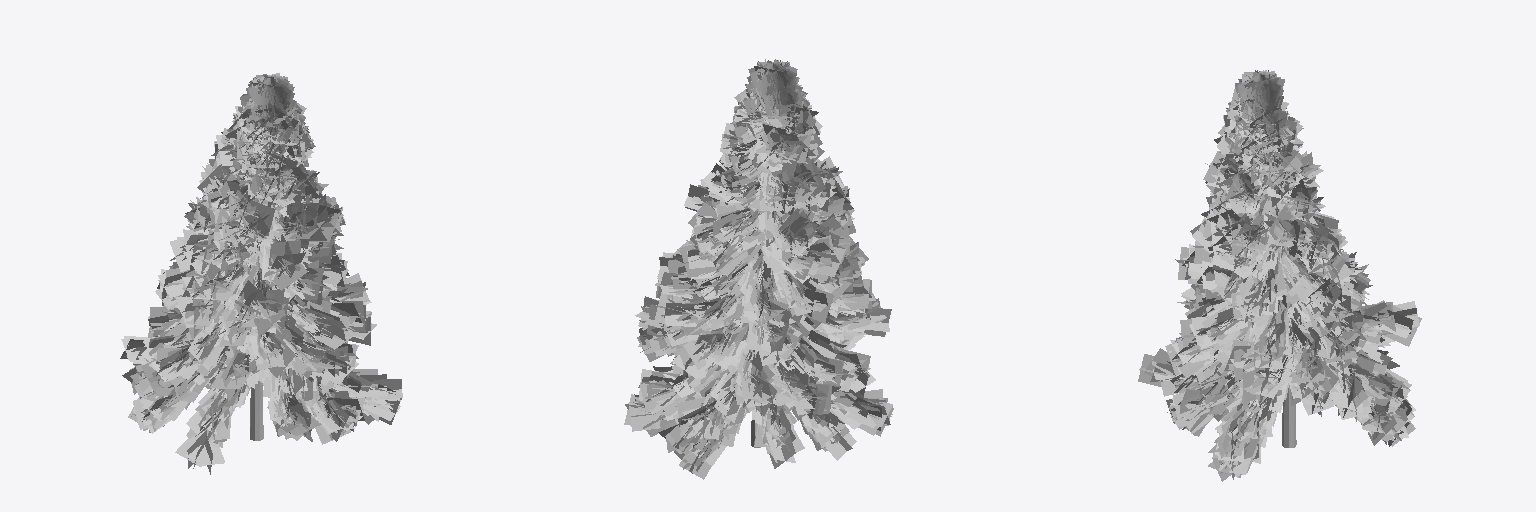
Rendered from tree_7.obj.
3 renders of one model, left to right at view 1: azimuth 30°, elevation 25°; view 2: azimuth 150°, elevation 25°; view 3: azimuth 270°, elevation 25°, orthographic.
Visible parts, largest first — view 1: Mesh_1.007, Mesh_0.007; view 2: Mesh_1.007; view 3: Mesh_1.007, Mesh_0.007.
Boxes of the visible parts, box(x1,y1,x2,y2) form: Mesh_1.007: box(120, 73, 402, 474); Mesh_0.007: box(223, 353, 263, 440); Mesh_1.007: box(624, 59, 893, 479); Mesh_1.007: box(1138, 70, 1421, 481); Mesh_0.007: box(1275, 206, 1296, 447).
Bounding box in the file's own units: 47.94 × 70.99 × 48.93.